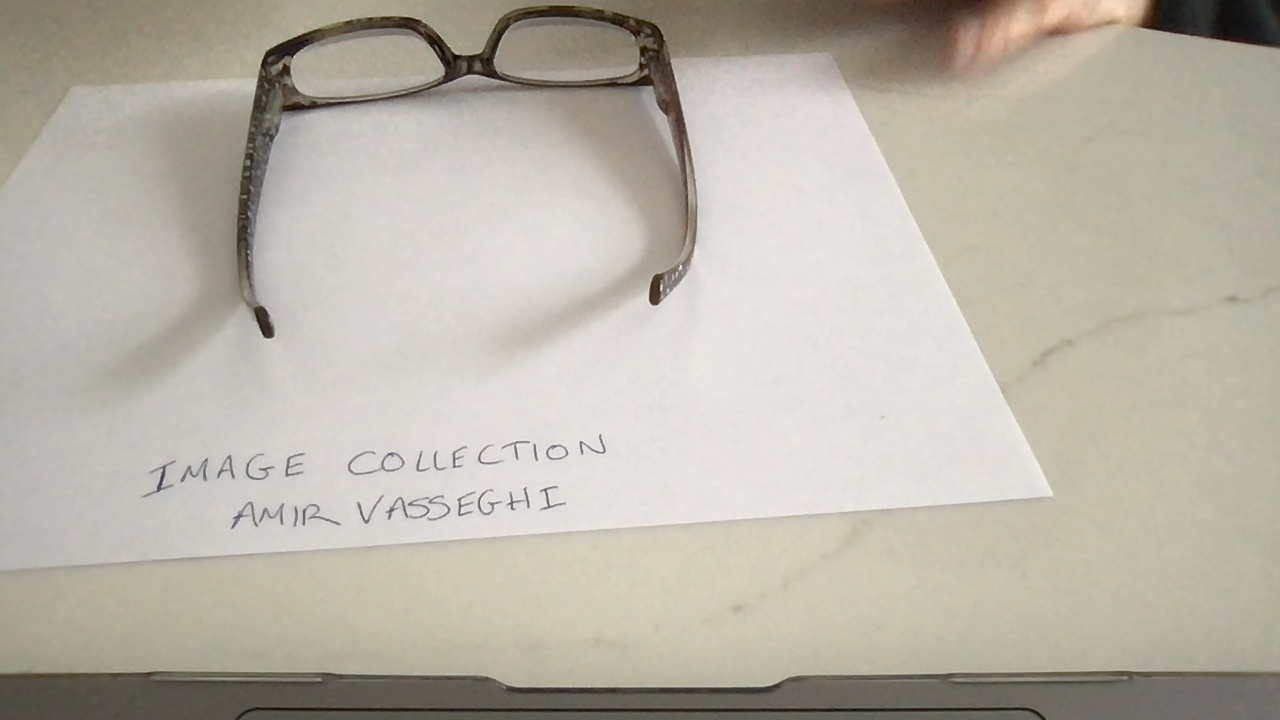glasses: (235, 5, 699, 339)
